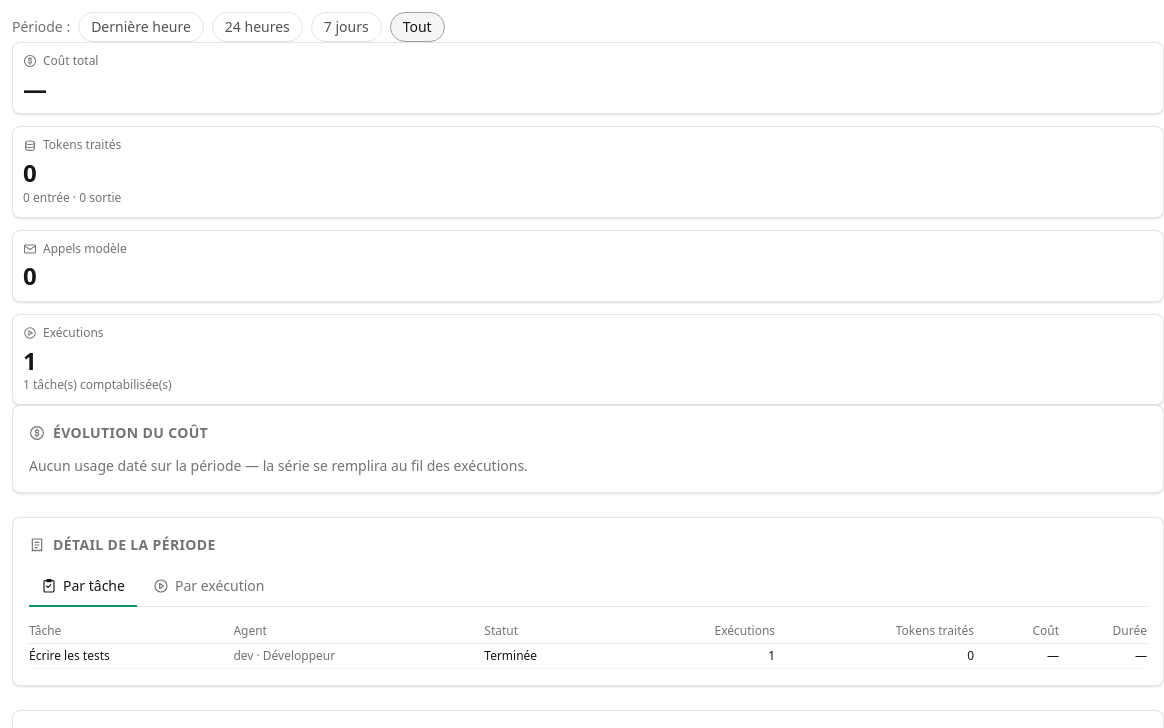
le second niveau de la page Coûts (#539) › bascule sur la vue par exécution sans quitter le bloc
The width and height of the screenshot is (1164, 728).
Click the button "Par exécution" at (209, 587), box [141,567,276,607]
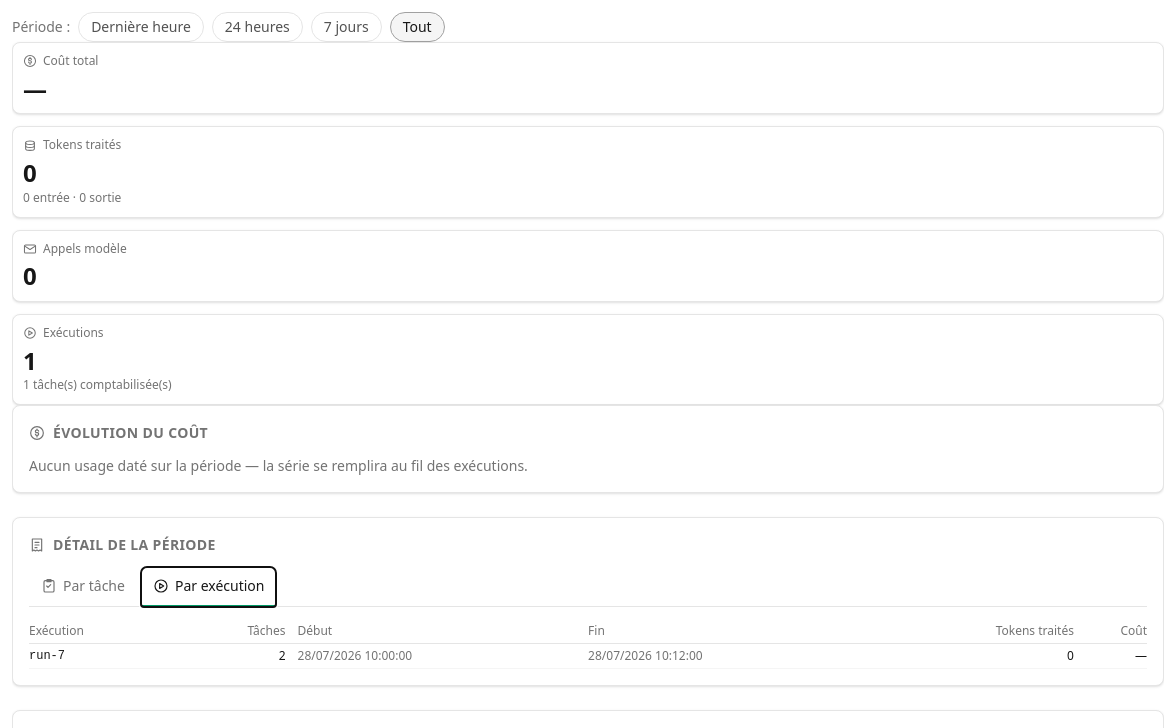
Expected: the column heading "Exécution" is shown, [29,619,182,643]
Expected: the column heading "Statut" is gone
